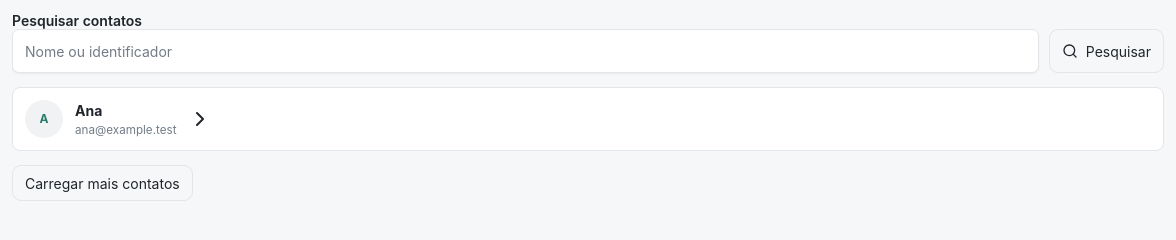
Scenario: M1 contacts browser › loads the next signed cursor and deduplicates records
expect the text "Ana" is shown: met, box 75,102 -> 102,118
Click the button "Carregar mais contatos" at (102, 183), box 12,165 -> 193,201
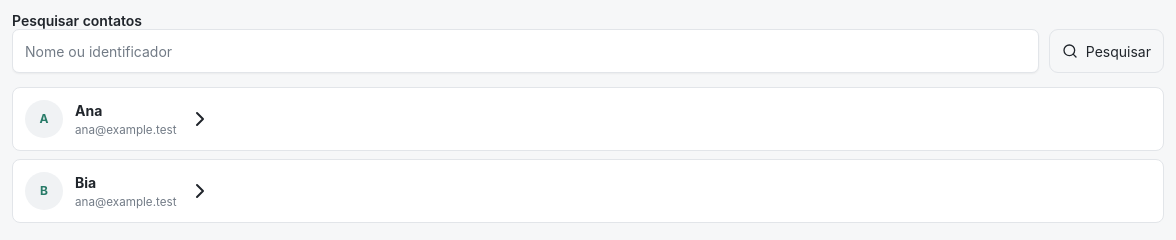
expect the text "Bia" is shown: met, box 75,174 -> 96,190
expect the text "Ana" is shown once: met, box 75,102 -> 102,118
